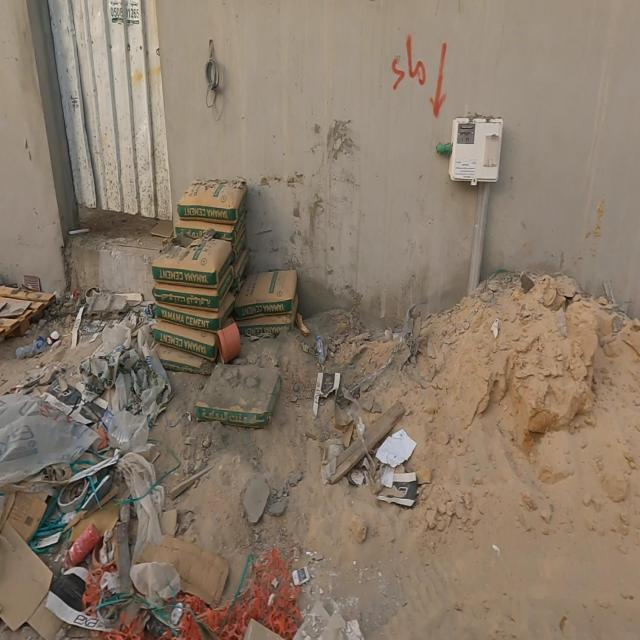Graffiti: (393, 36, 449, 117)
